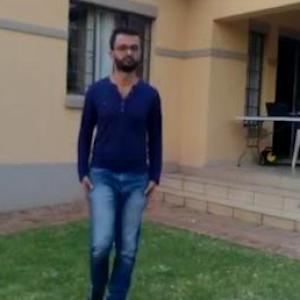follow: (77, 16, 166, 285)
